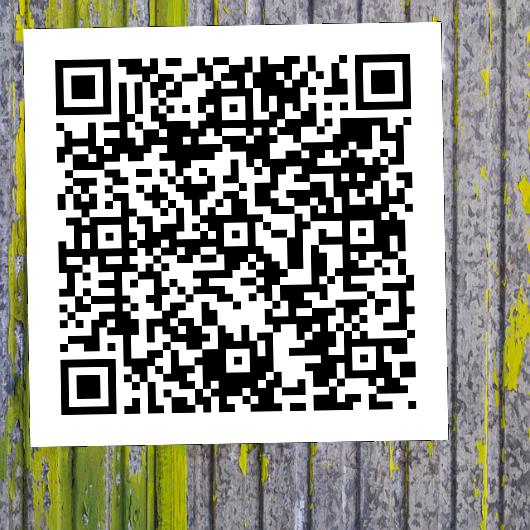qr_code: (23, 21, 448, 446)
